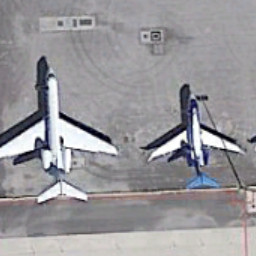Airplane: (1, 59, 123, 209), (141, 81, 249, 207)
